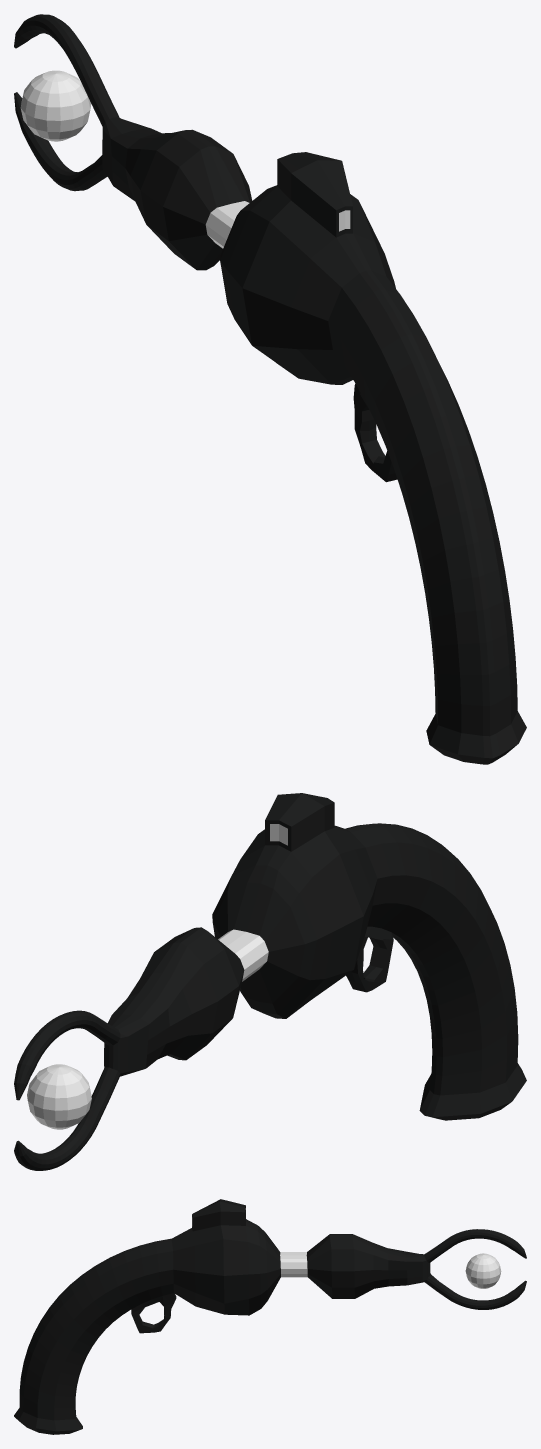
3 views of the same model, one above another, from view 1: azimuth 30°, elevation 25°; view 2: azimuth 150°, elevation 25°; view 3: azimuth 270°, elevation 25° (orthographic). The views are drawn at different scales.
Parts seen in each view (by area): view 1: P243_mk2; view 2: P243_mk2; view 3: P243_mk2.
Part boxes in pixels (x1,y1,x2,y2): P243_mk2: (14, 14, 526, 764); P243_mk2: (14, 793, 526, 1170); P243_mk2: (14, 1199, 526, 1434).
Size of the model in its own units: 8.33 by 51.81 by 25.87.
